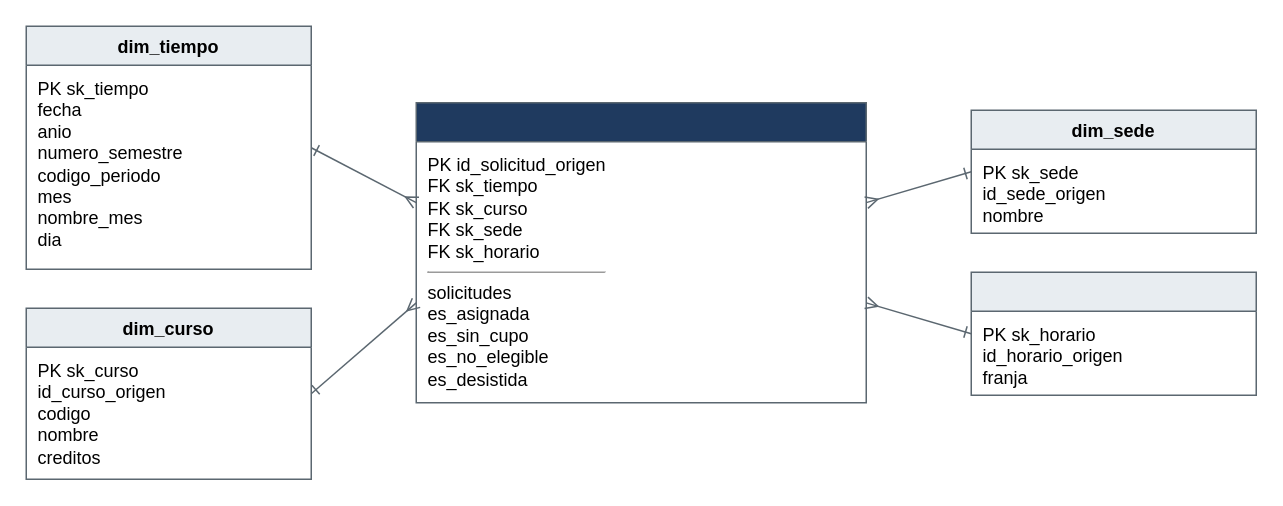
This 1283x506 diagram has some shape labels left out. Here are the shapes that lost their labels. From the top down, the box of each, then its label:
(415, 101, 866, 403): fact_solicitud
(970, 271, 1256, 395): dim_horario
